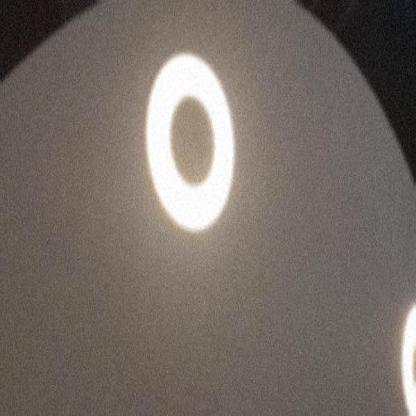light_on: (136, 40, 240, 242), (398, 287, 416, 415)
